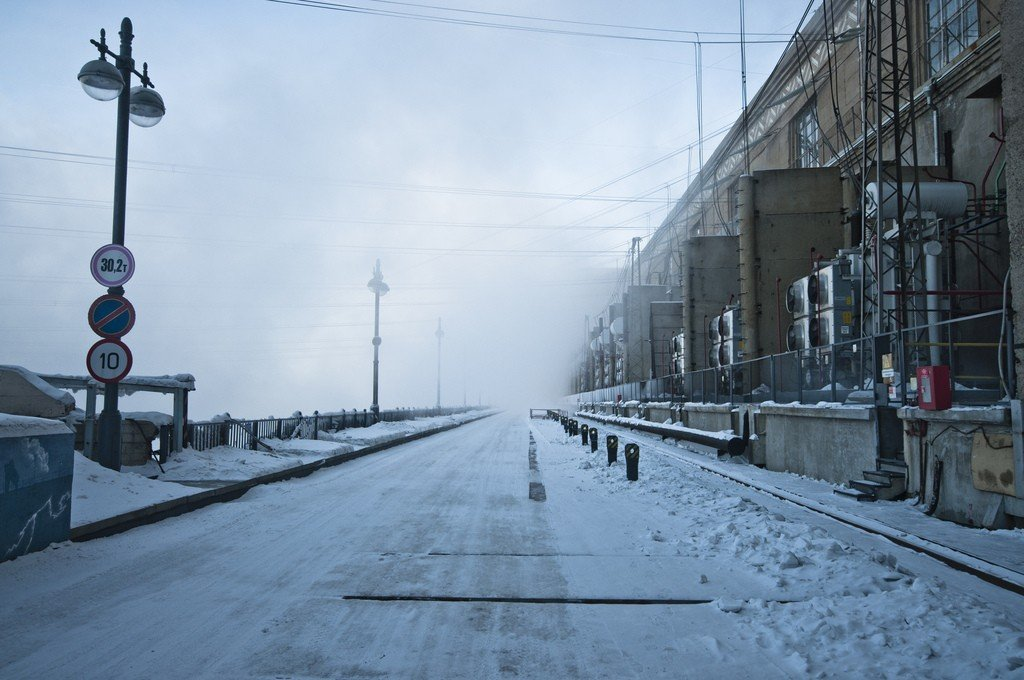sign: (86, 291, 137, 342), (85, 338, 132, 385), (90, 242, 136, 288)
